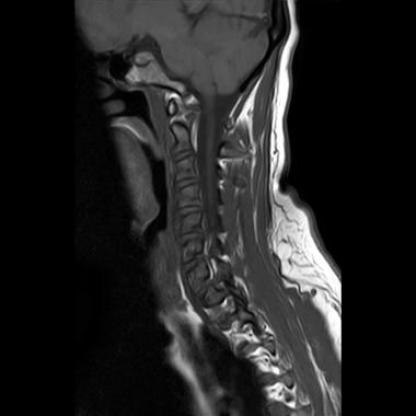Disc Bulgerotation: (181, 255, 210, 274), (177, 230, 204, 248)
Osteophytesrotation: (181, 255, 210, 273), (177, 231, 204, 248)
